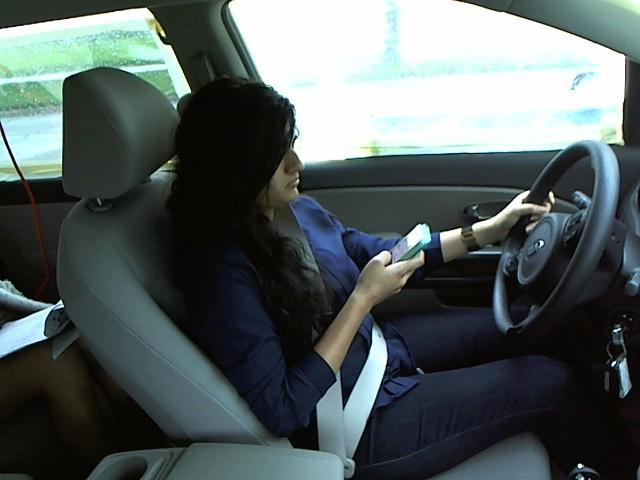PhoneUse: (368, 218, 438, 271)
